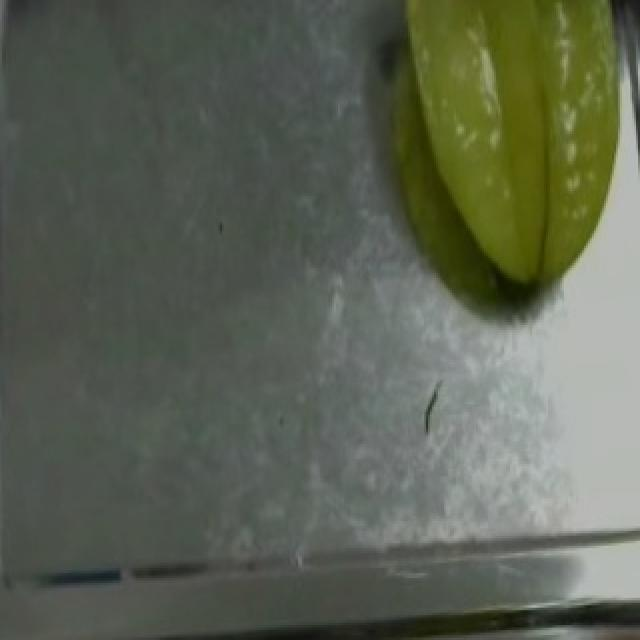fruit: (364, 0, 640, 315)
